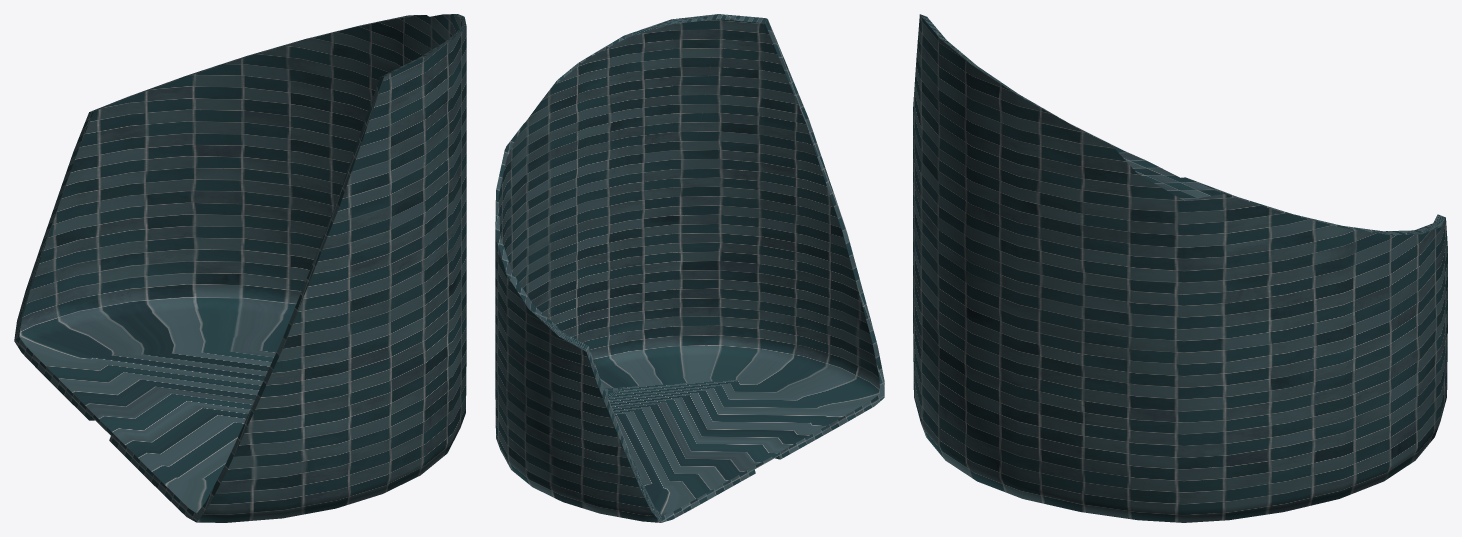
3 renders of one model, left to right at view 1: azimuth 30°, elevation 25°; view 2: azimuth 150°, elevation 25°; view 3: azimuth 270°, elevation 25°, orthographic. The views are drawn at different scales.
Visible parts, largest first — view 1: Cylinder_cell.001; view 2: Cylinder_cell.001; view 3: Cylinder_cell.001.
Part boxes in pixels (x1=…): Cylinder_cell.001: x1=14, y1=14, x2=466, y2=522; Cylinder_cell.001: x1=495, y1=14, x2=884, y2=522; Cylinder_cell.001: x1=913, y1=14, x2=1447, y2=522.
Bounding box in the file's own units: 1.97 × 2.28 × 2.59.
Materials: 1 (1 with a texture image).
